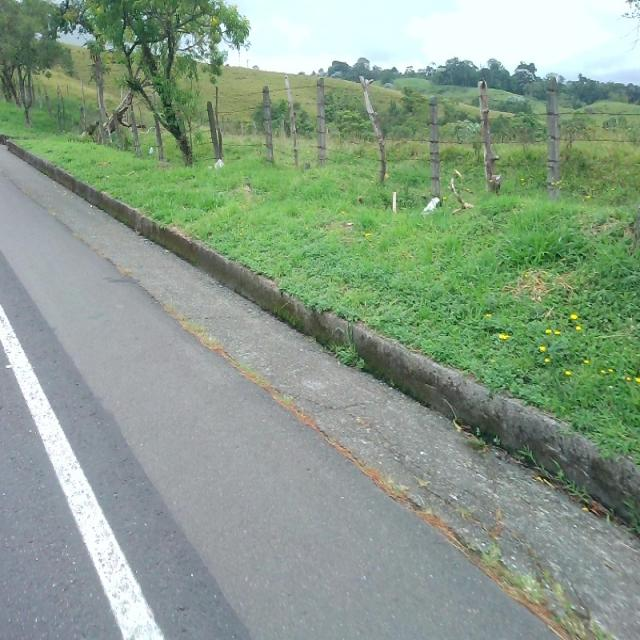DITCH: (1, 137, 638, 638), (1, 140, 638, 638)
